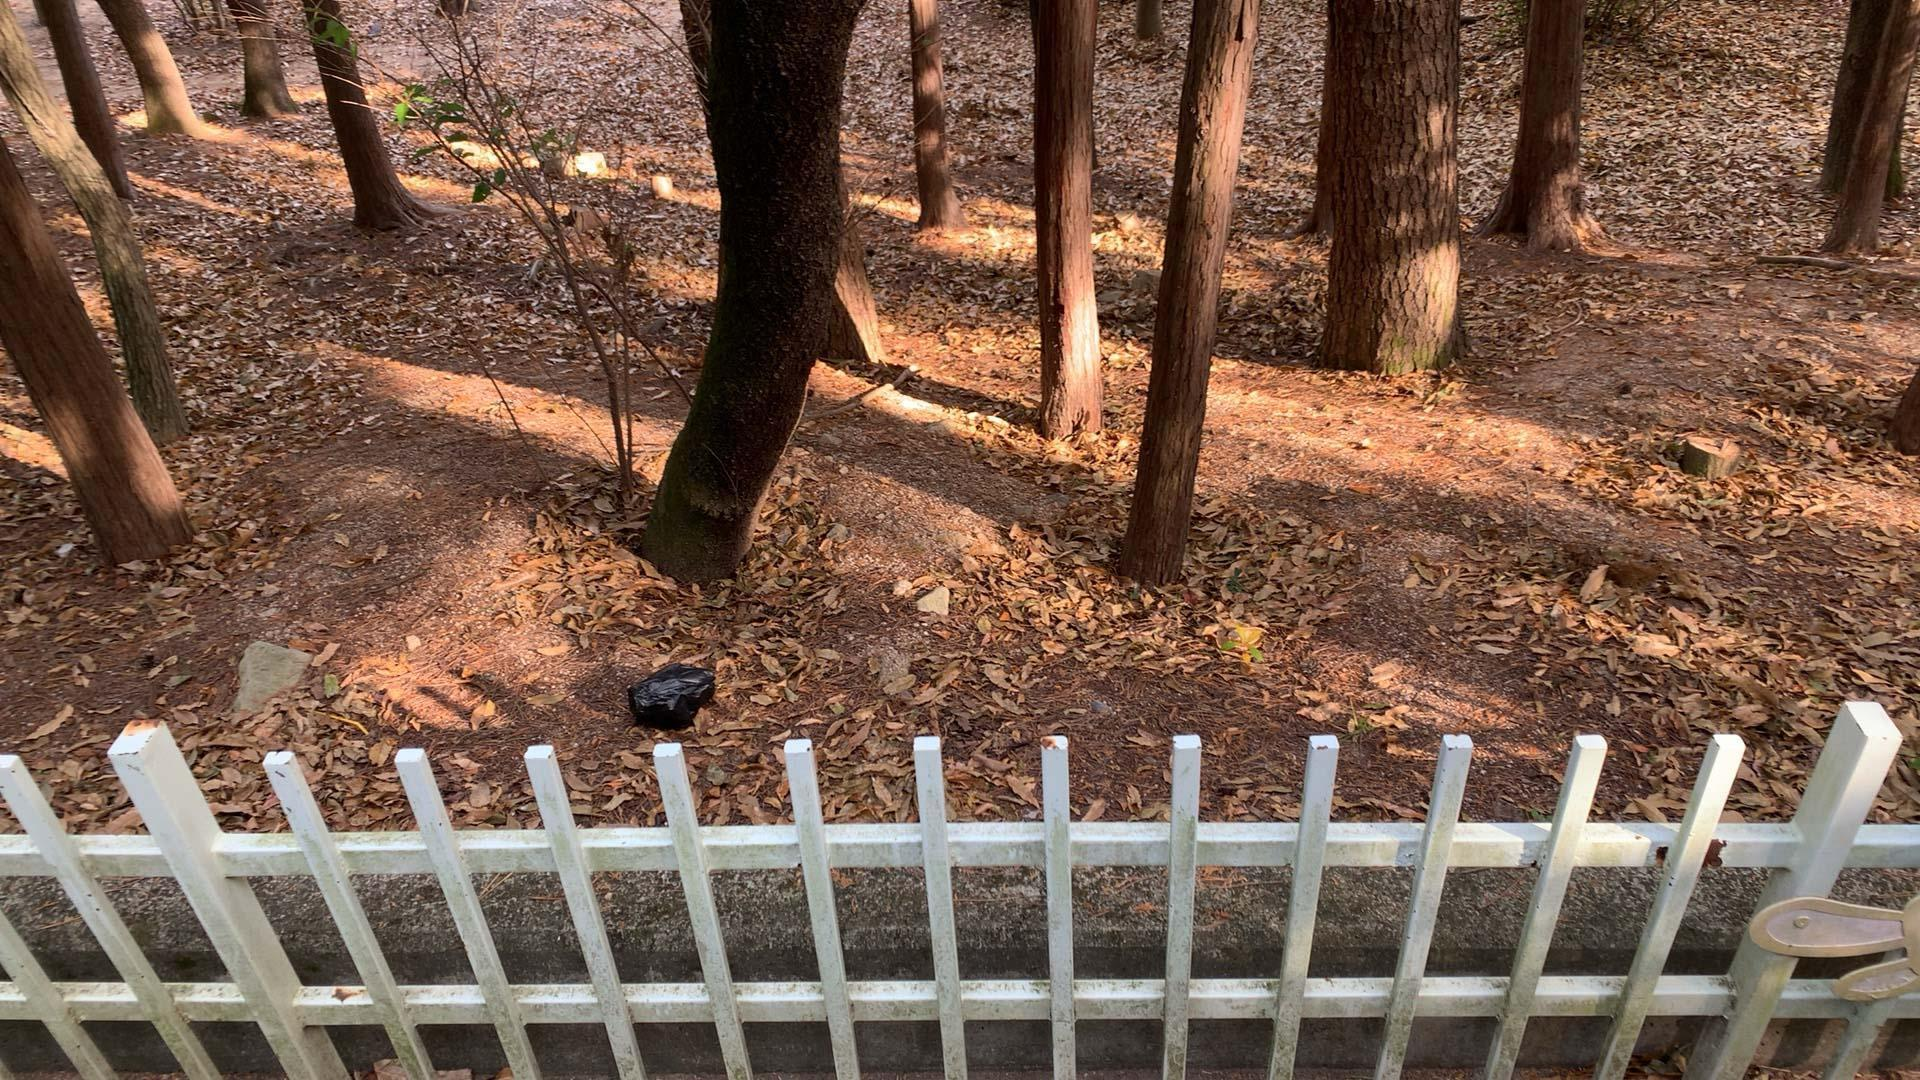black_bag: (621, 659, 717, 731)
